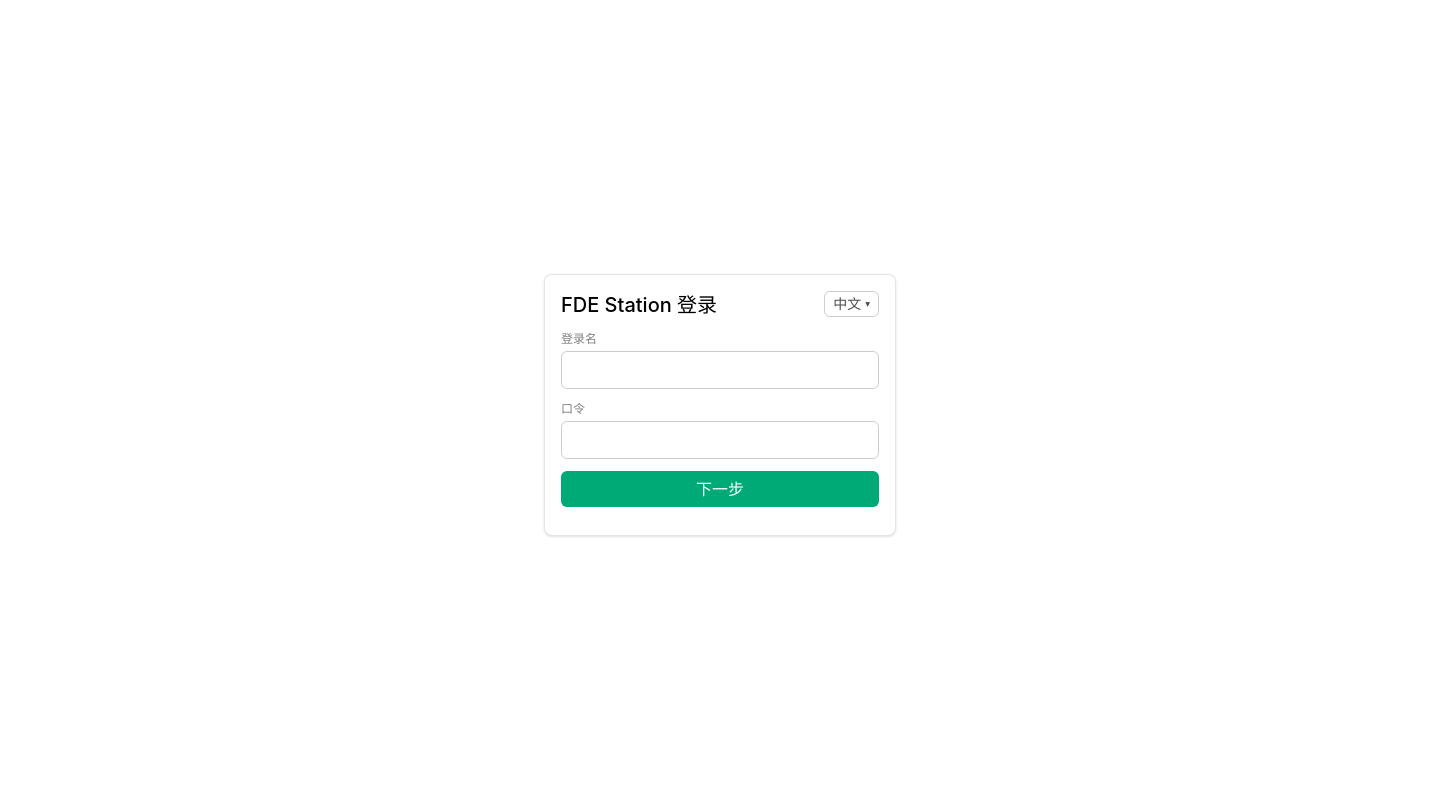
Test: #255 强制改密屏 · 闸门（挂 App 验「工作台没挂载」） › 登录返回 false ⇒ 一切照旧（正常进工作台，没有改密屏）
In the field with id "loginName": (720, 370) [561,351,879,389], type "bob"
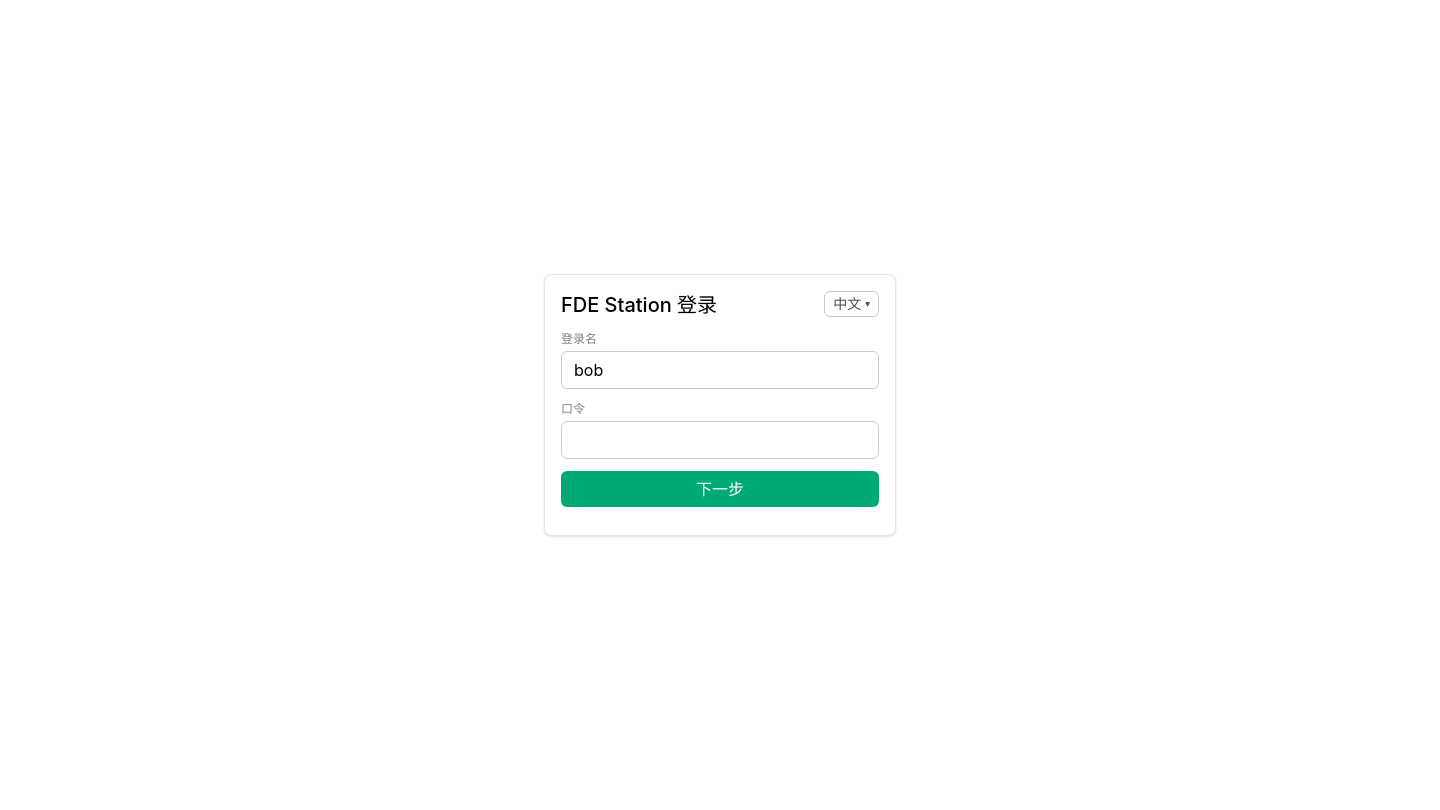
In the password field with id "loginPass": (720, 440) [561,421,879,459], type "pw"
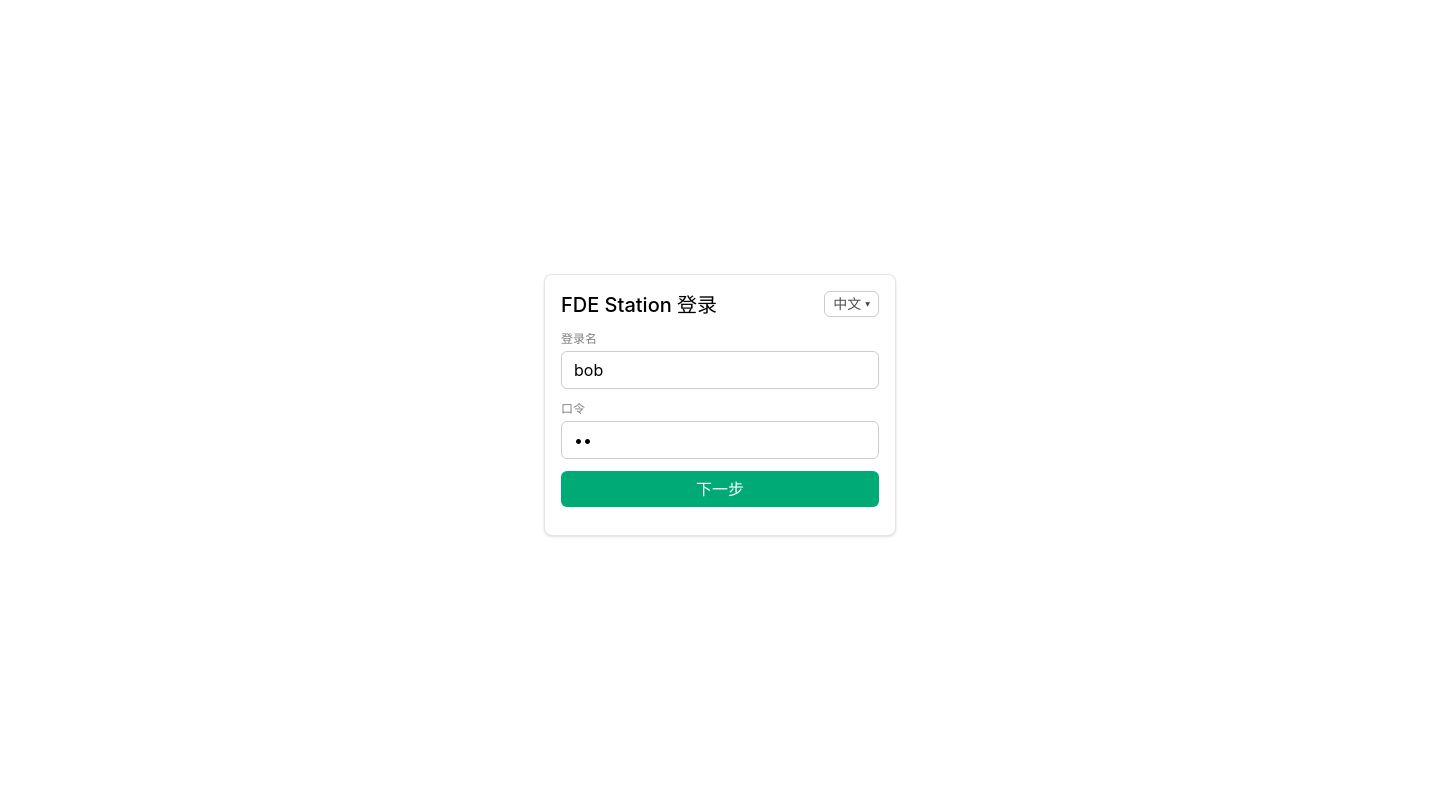
Submit the form, box [561,331,879,507]
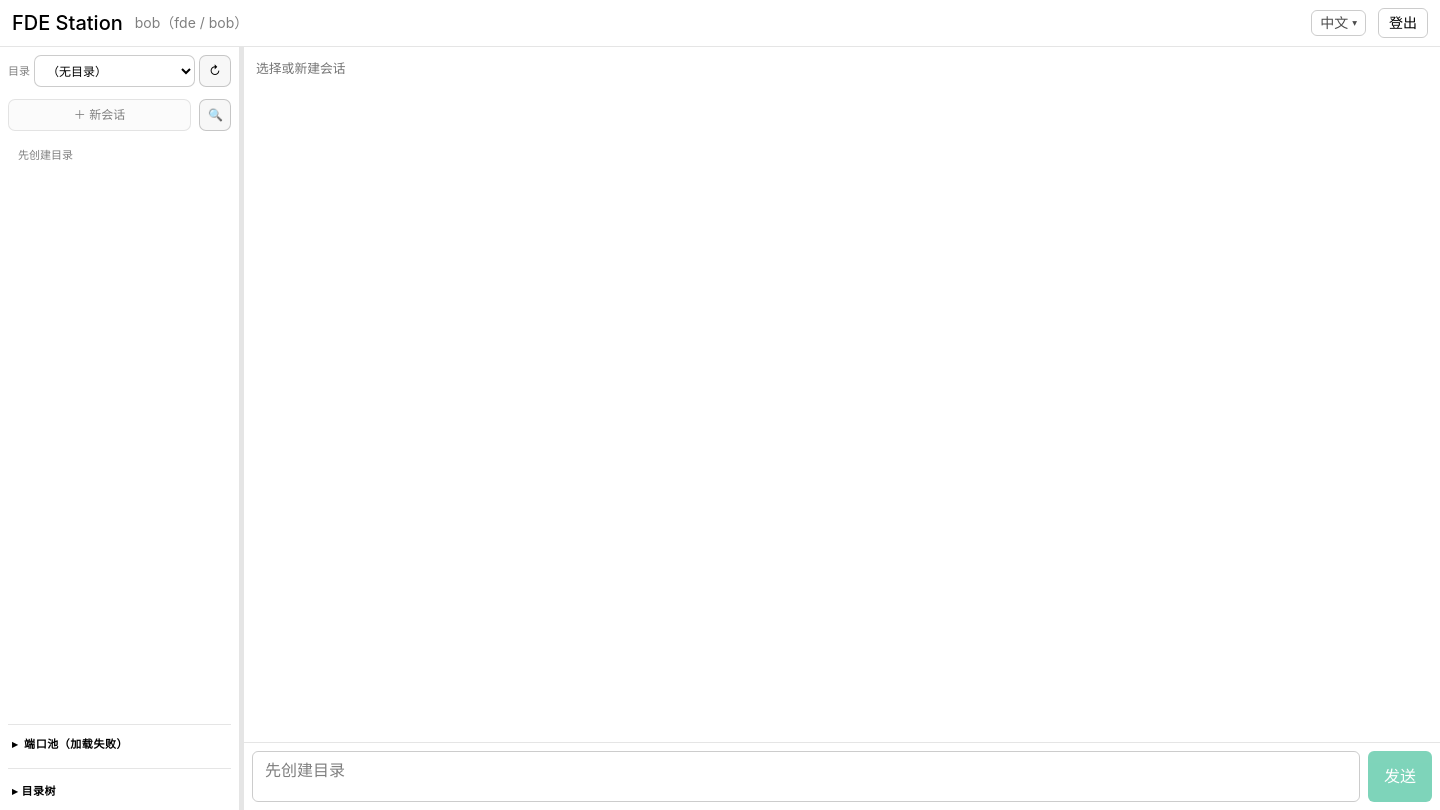
Expected: the button with test id "preview-ports-toggle" is shown, [8,733,231,756]
